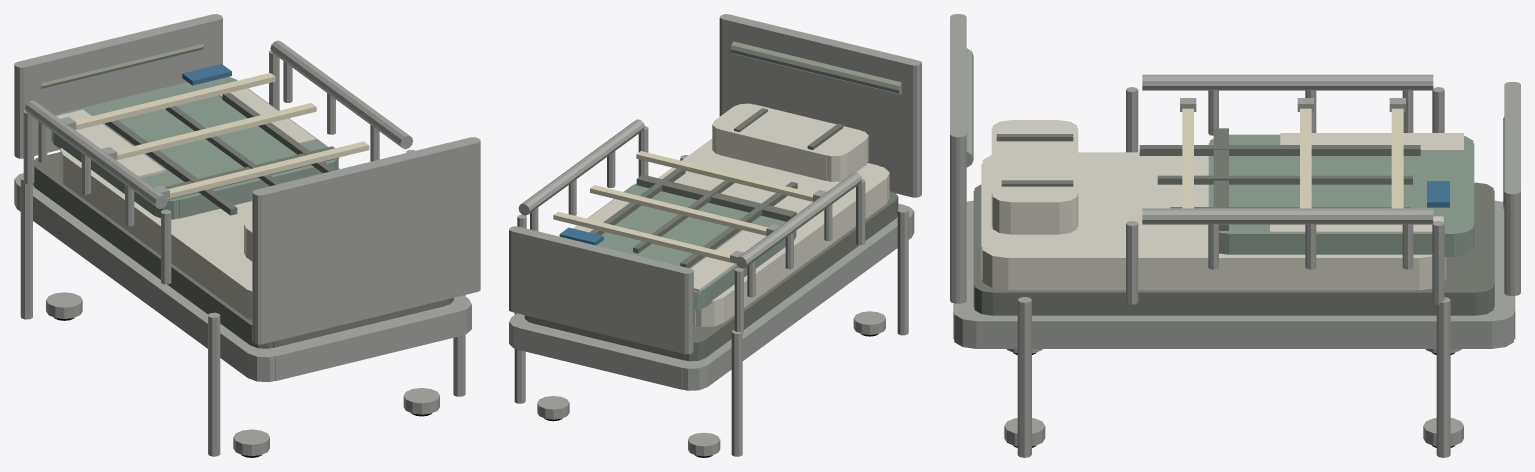
Rendered from hospital_bed.obj.
3 renders of one model, left to right at view 1: azimuth 30°, elevation 25°; view 2: azimuth 150°, elevation 25°; view 3: azimuth 270°, elevation 25°, orthographic. The views are drawn at different scales.
Visible parts, largest first — view 1: hospital_bed; view 2: hospital_bed; view 3: hospital_bed.
Boxes of the visible parts, x1,y1,x2,y2 form: hospital_bed: (14,14,480,457); hospital_bed: (509,14,921,457); hospital_bed: (950,14,1520,457).
Size of the model in its own units: 1.3 by 1.39 by 2.23.
